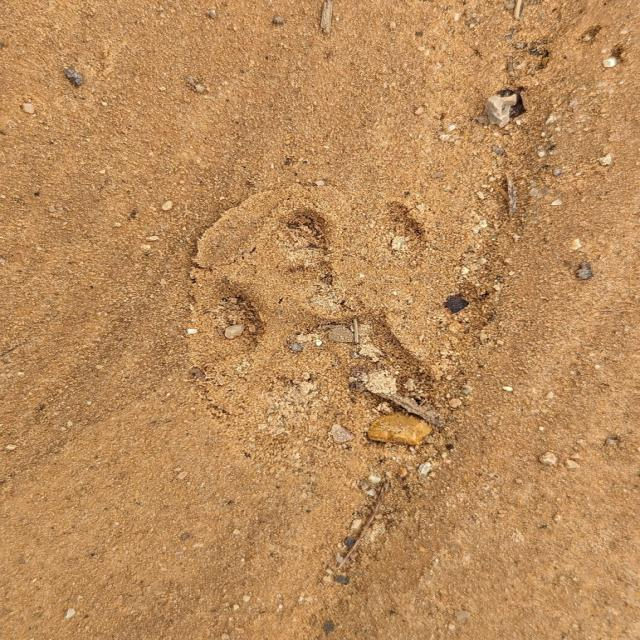felid: (223, 206, 482, 434)
